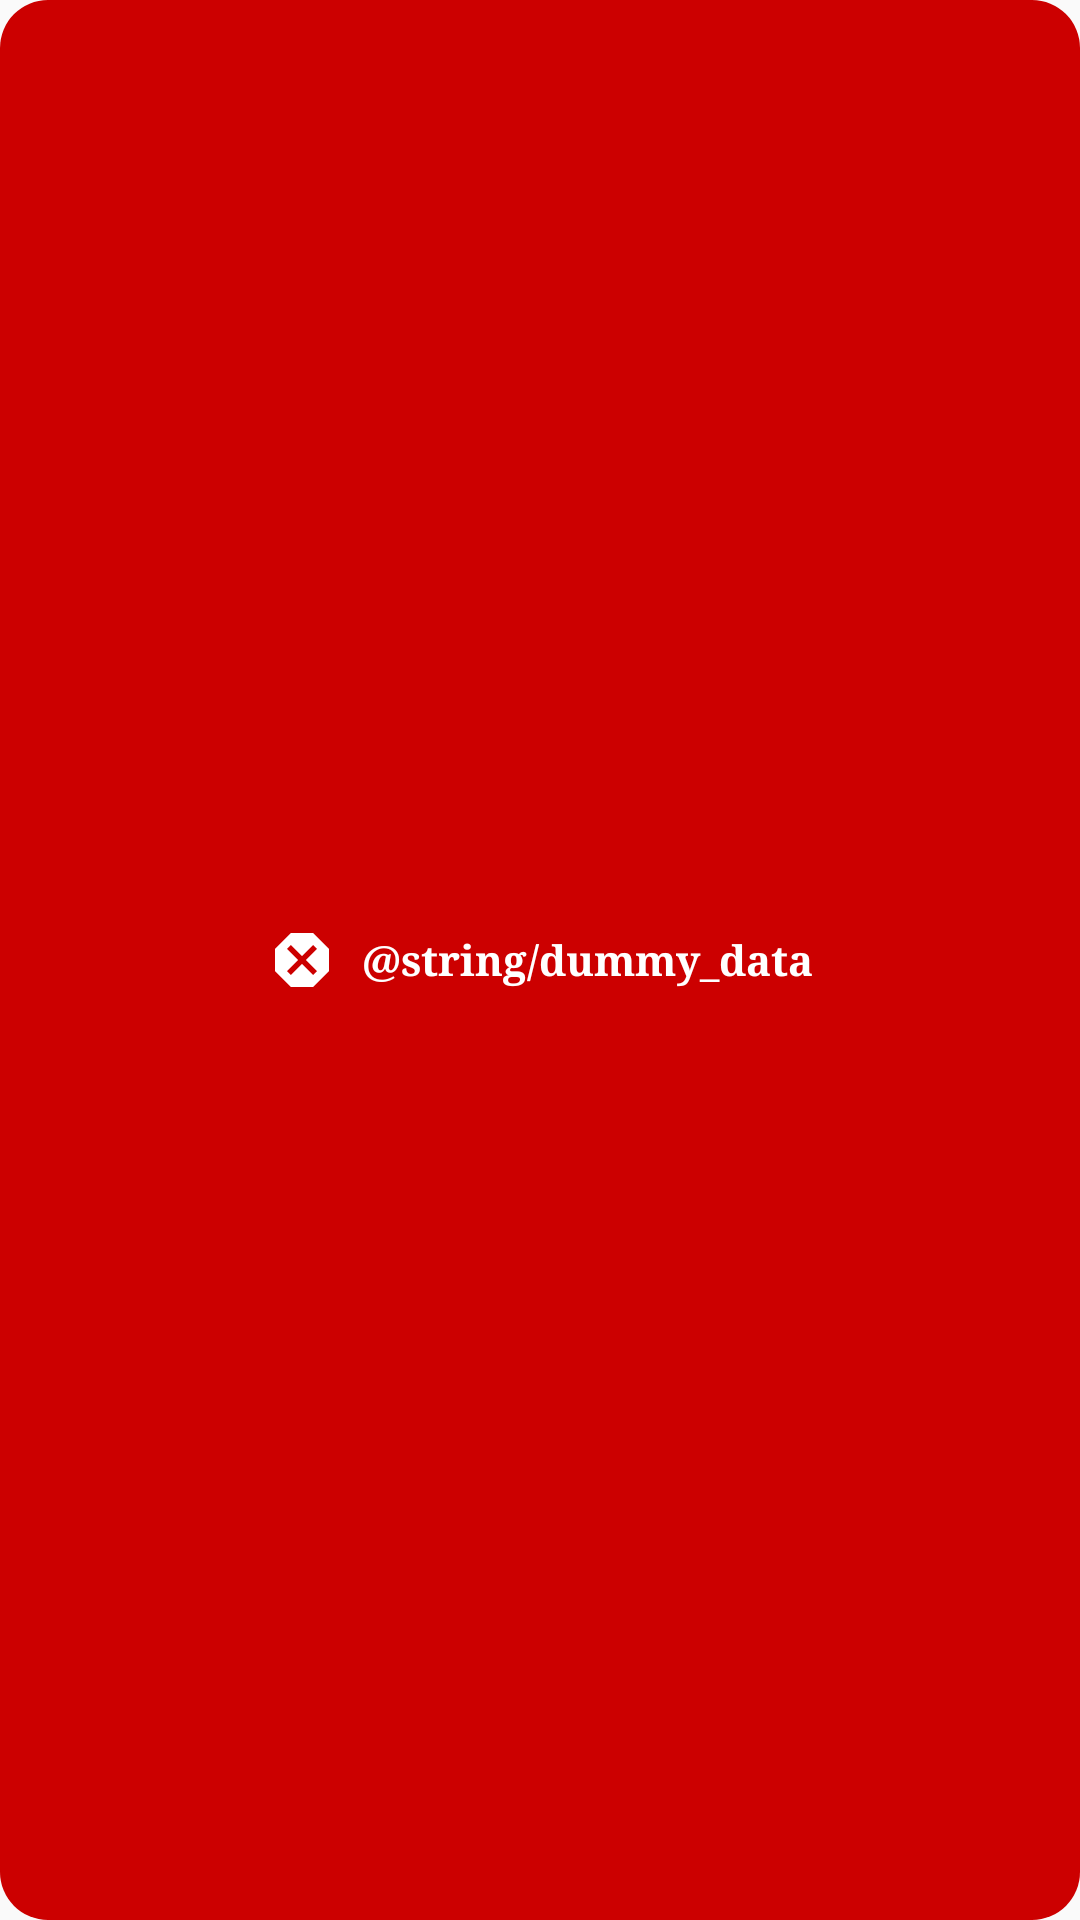

Point at icon controls on the screen. Image size 1080 × 1920, points as [x,y].
toast negative: [302,960]
